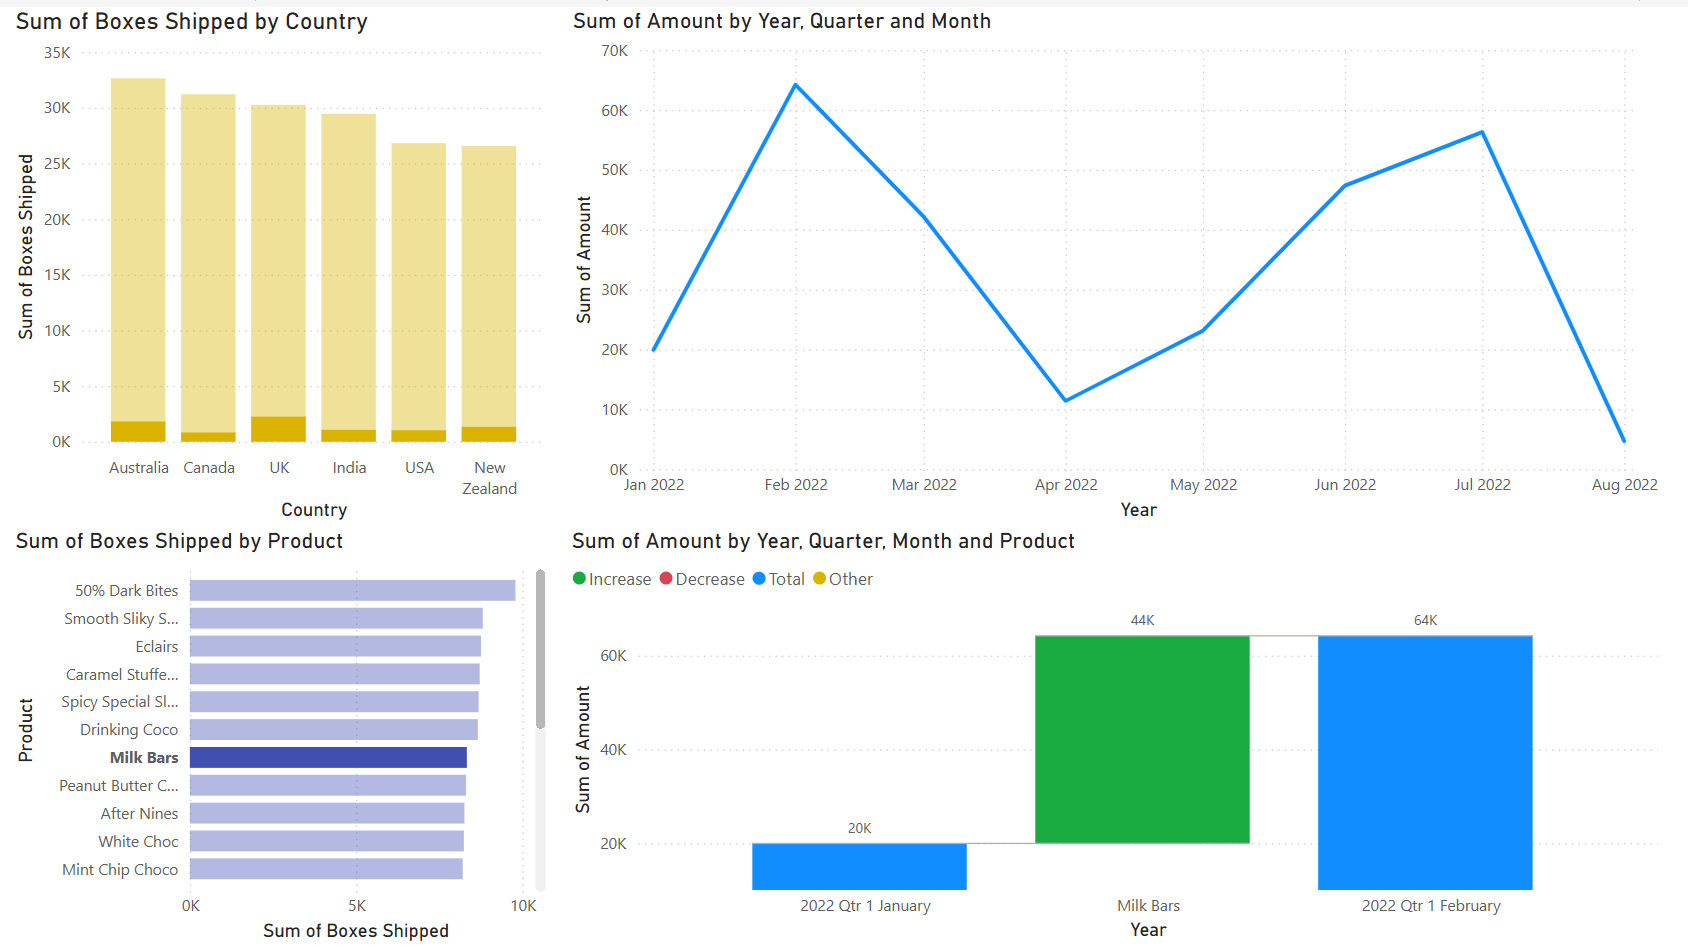

What the dashboard file says about the page in this screenshot:
{"tool":"powerbi","page":{"name":"Page 1","canvas":[1280,720],"ordinal":0},"visuals":[{"type":"columnChart","fields":{"Category":["data.Country"],"Y":["Sum(data.Boxes Shipped)"]},"box":[11.8,0,416.6,398.1],"z":0},{"type":"barChart","fields":{"Category":["data.Product"],"Y":["Sum(data.Boxes Shipped)"]},"box":[11.8,398.1,416.6,322.5],"z":1},{"type":"lineChart","fields":{"Y":["Sum(data.Amount)"],"Category":["data.Date.Variation.Date Hierarchy.Year","data.Date.Variation.Date Hierarchy.Quarter","data.Date.Variation.Date Hierarchy.Month"]},"box":[438.4,0,841.6,398.1],"z":2},{"type":"waterfallChart","fields":{"Category":["data.Date.Variation.Date Hierarchy.Year","data.Date.Variation.Date Hierarchy.Quarter","data.Date.Variation.Date Hierarchy.Month"],"Breakdown":["data.Product"],"Y":["Sum(data.Amount)"]},"box":[438,398,842,322],"z":3}]}

Visuals, with their boxes in screenshot pixels (x1, y1, x2, y2), scaled from the page's 1280x720 canvas onto the 1688x945 screenshot:
columnChart - data.Country x Sum(data.Boxes Shipped): BBox(16, 0, 565, 523)
barChart - data.Product x Sum(data.Boxes Shipped): BBox(16, 523, 565, 944)
lineChart - Sum(data.Amount) x data.Date.Variation.Date Hierarchy.Year: BBox(578, 0, 1687, 523)
waterfallChart - data.Date.Variation.Date Hierarchy.Year x data.Date.Variation.Date Hierarchy.Quarter: BBox(578, 522, 1687, 944)
